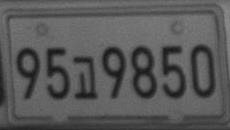0: (189, 44, 216, 98)
5: (161, 45, 187, 99), (45, 48, 69, 99)
8: (130, 45, 157, 99)
9: (14, 47, 40, 100), (101, 47, 126, 98)
고: (73, 55, 97, 99)
